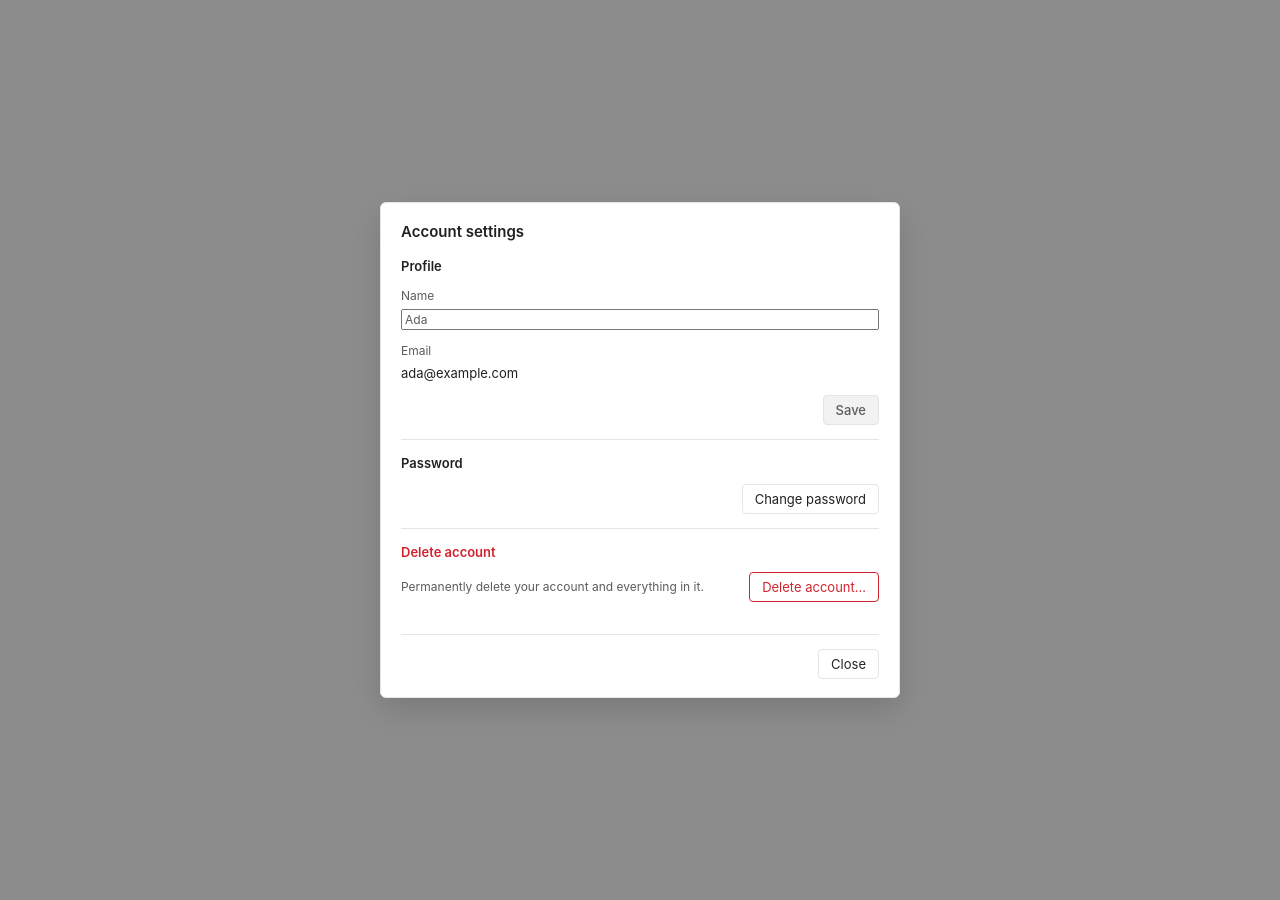
Scenario: AccountSettingsModal › says under the fields what is not right yet, and Save stays off
Click the button "Change password" at (810, 499), box [742, 484, 879, 514]
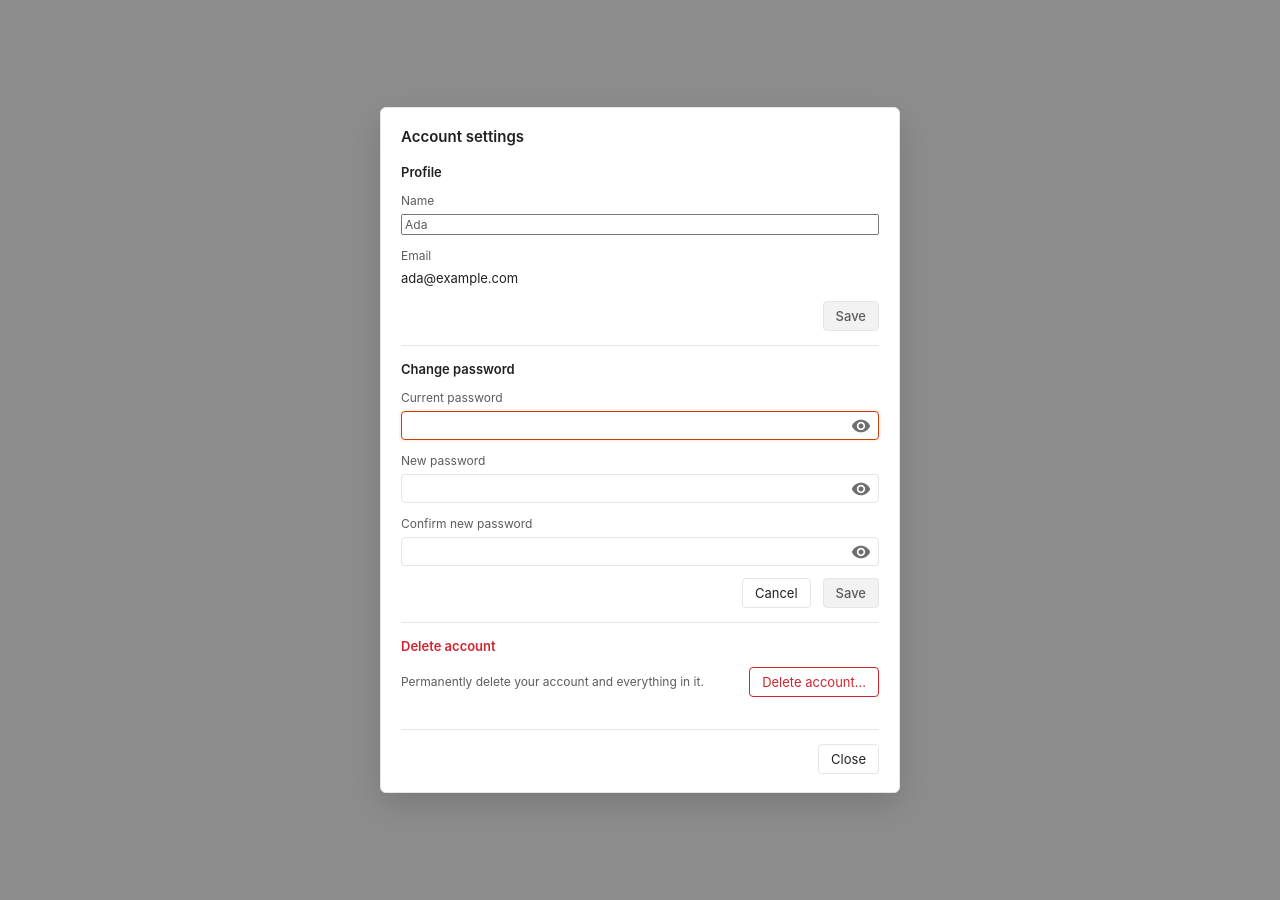
Type "correct horse battery" into the password field labelled "Current password" at (640, 426), box [401, 411, 879, 440]
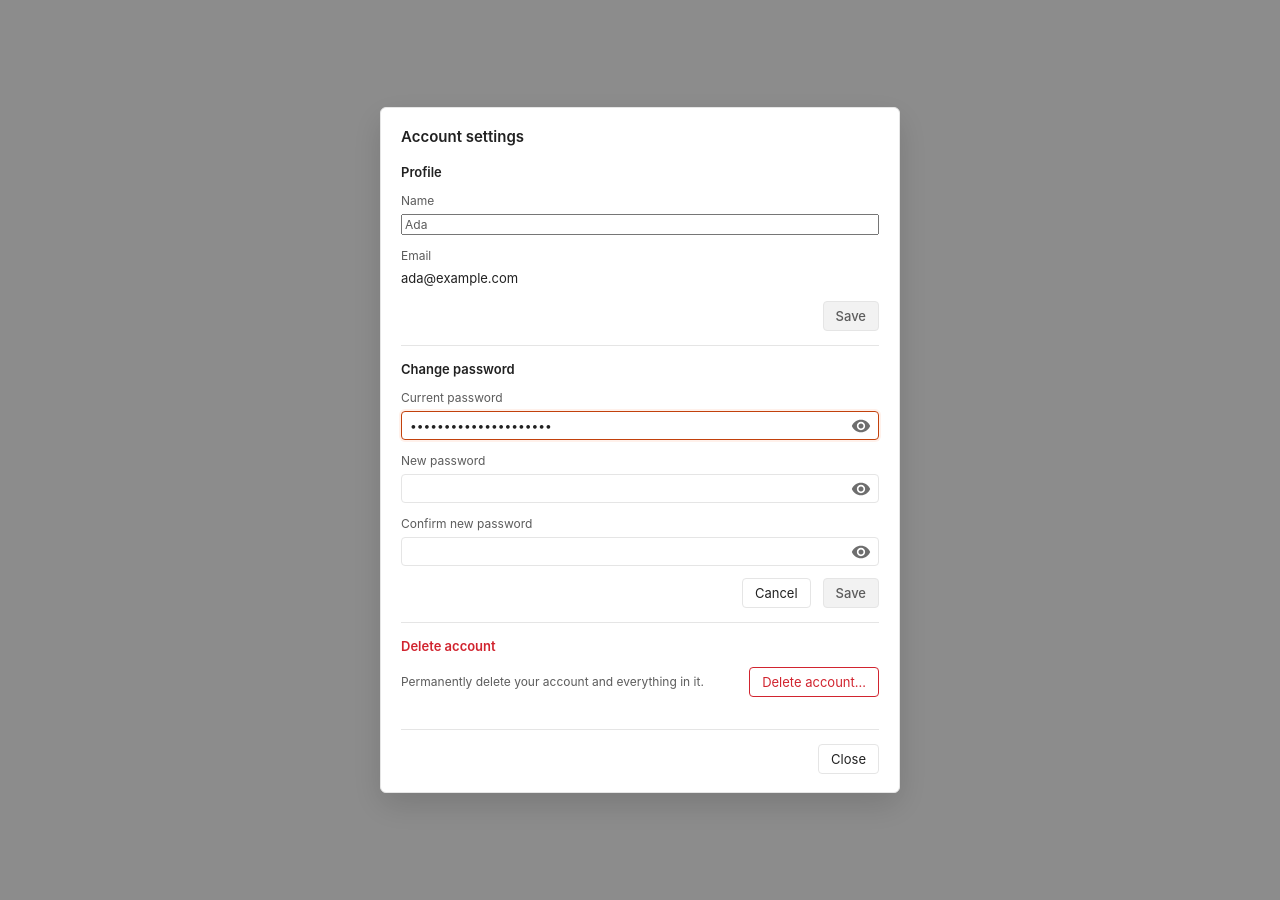
Type "short" into the password field labelled "New password" at (640, 489), box [401, 474, 879, 503]
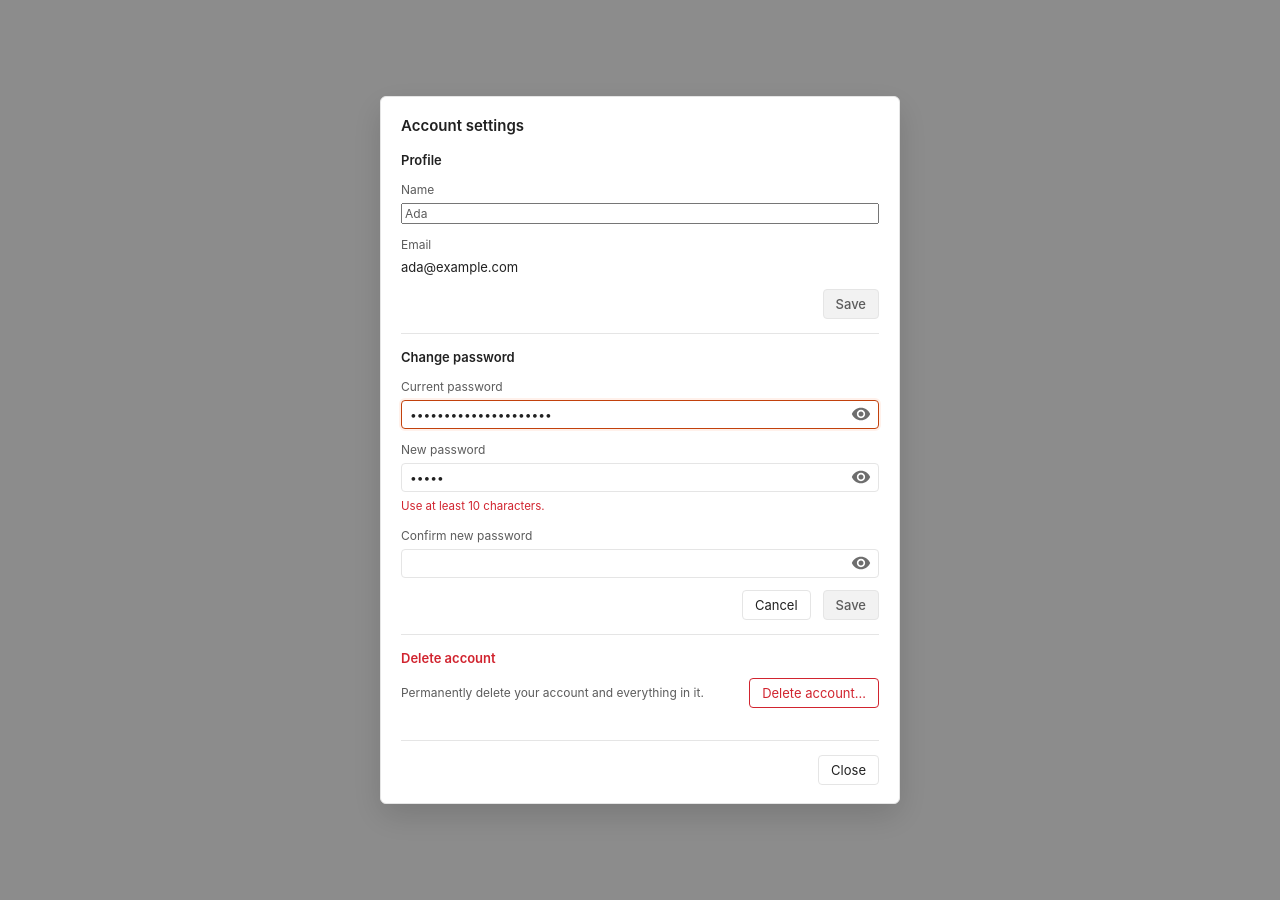
Now the text "Use at least 10 characters." is shown, box [401, 499, 545, 513]
Type "a brand new passphrase" into the password field labelled "New password" at (640, 477), box [401, 463, 879, 492]
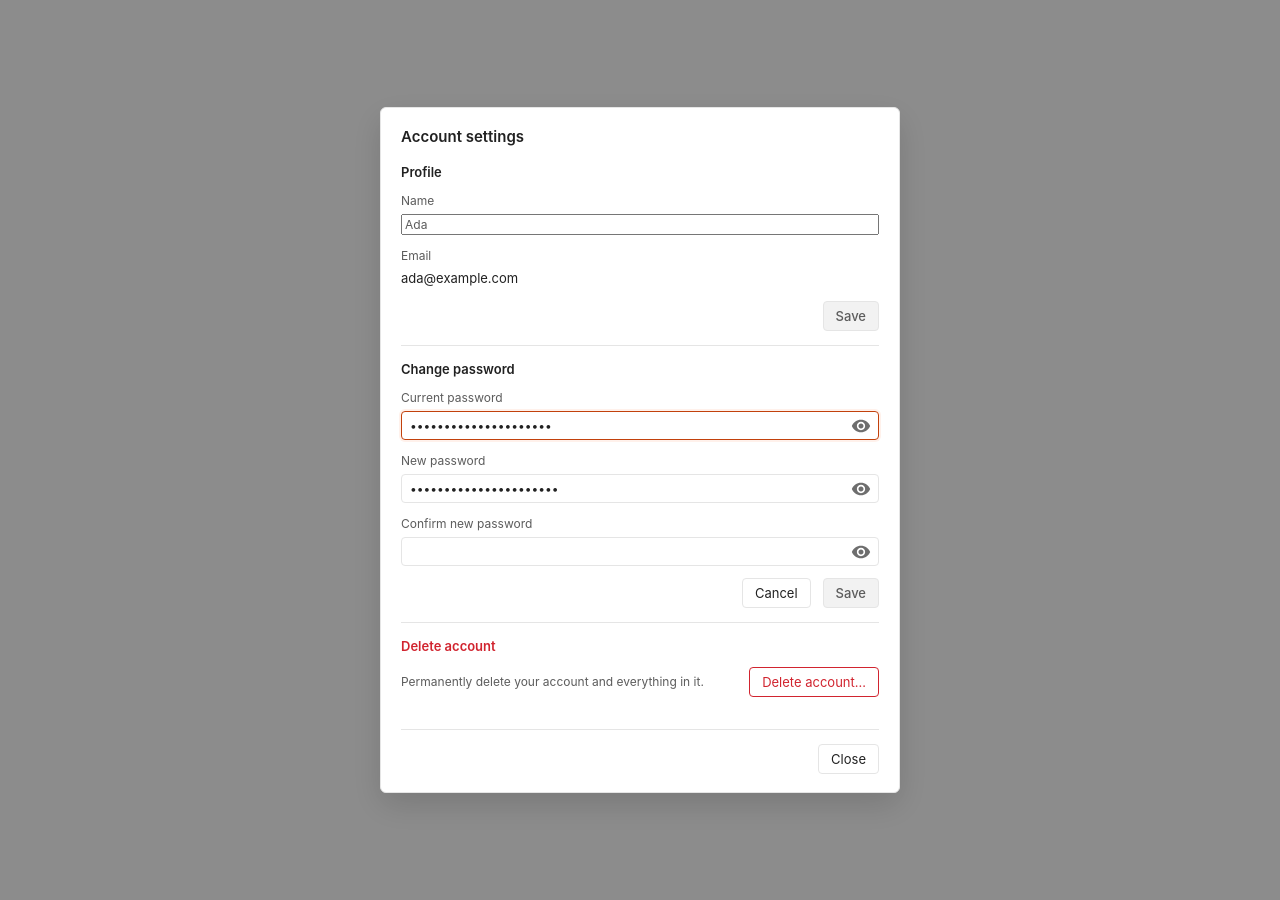
Type "something else entirely" into the password field labelled "Confirm new password" at (640, 552), box [401, 537, 879, 566]
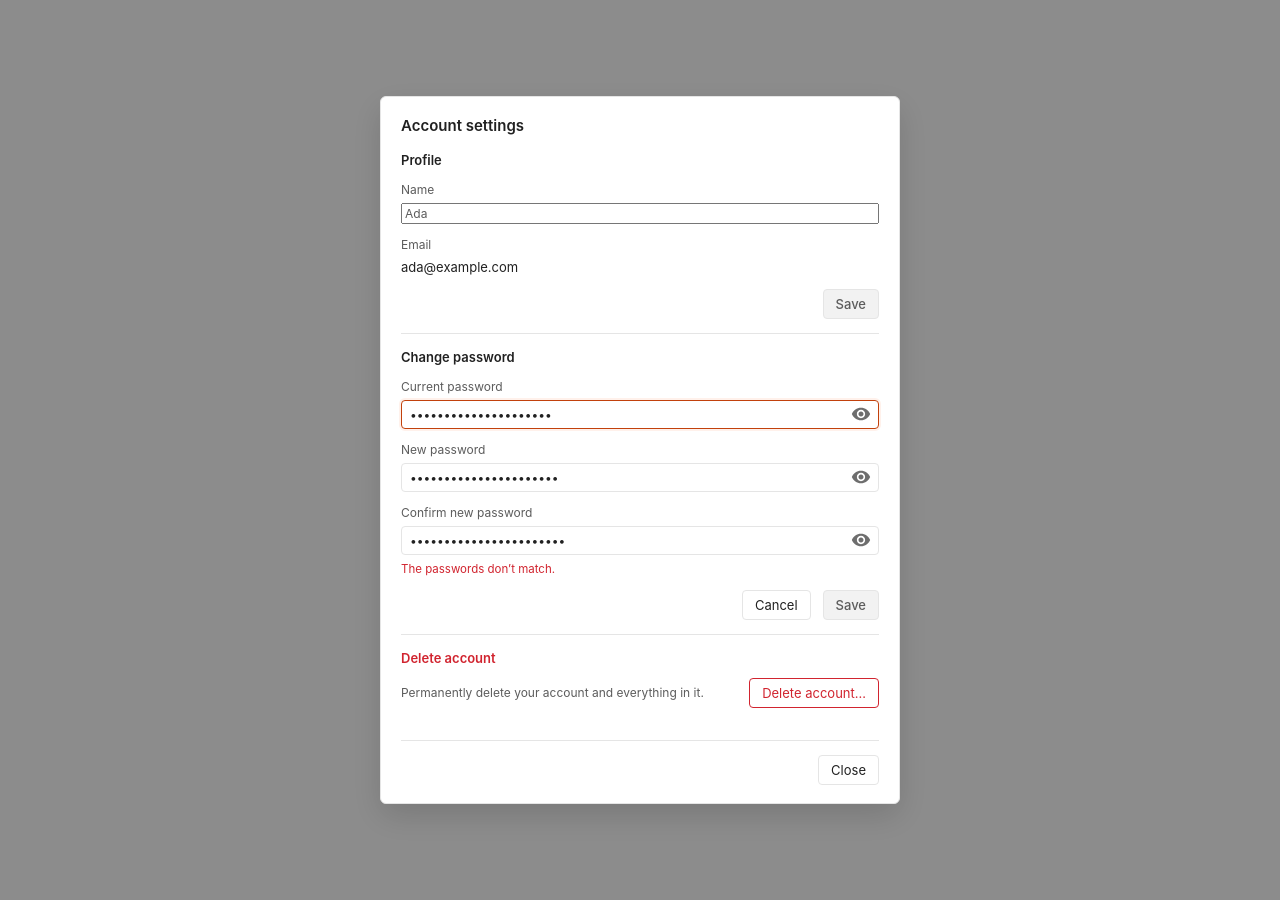
Now the 2nd button "Save" is disabled, box [823, 590, 879, 620]
Now the text "The passwords don’t match." is shown, box [401, 562, 555, 576]
